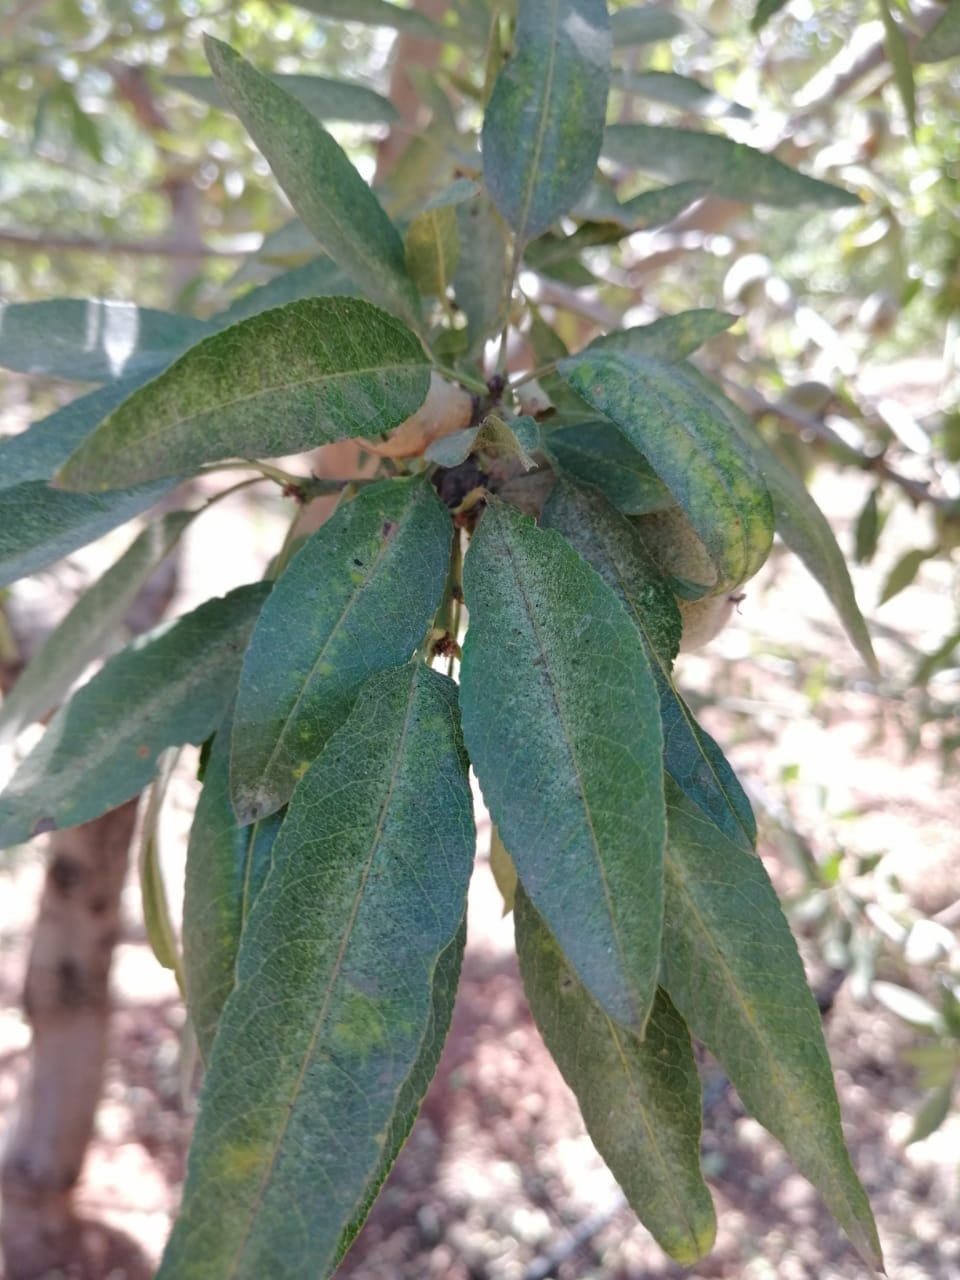acariens: (460, 502, 669, 1040), (48, 299, 432, 495)
